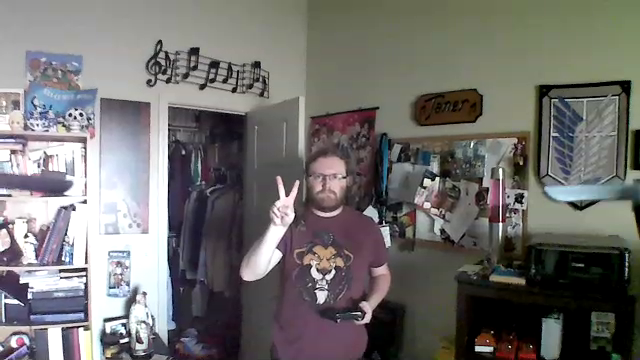peace: (263, 169, 307, 234)
